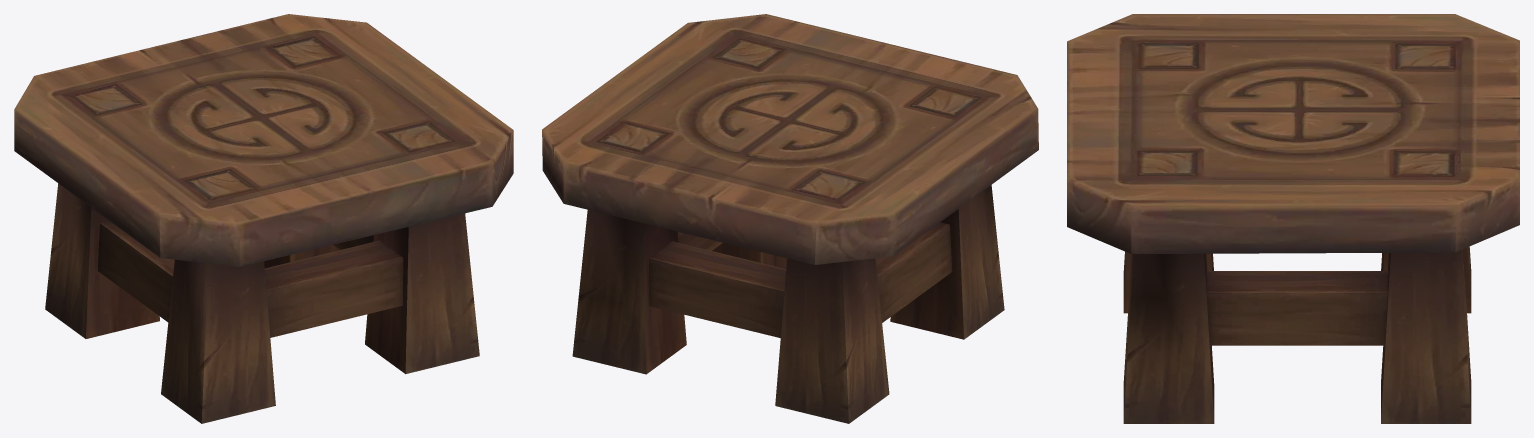
3 renders of one model, left to right at view 1: azimuth 30°, elevation 25°; view 2: azimuth 150°, elevation 25°; view 3: azimuth 270°, elevation 25°, orthographic. The views are drawn at different scales.
Bounding box in the file's own units: 1.96 × 1.14 × 1.96.
1 material, 1 textured.
